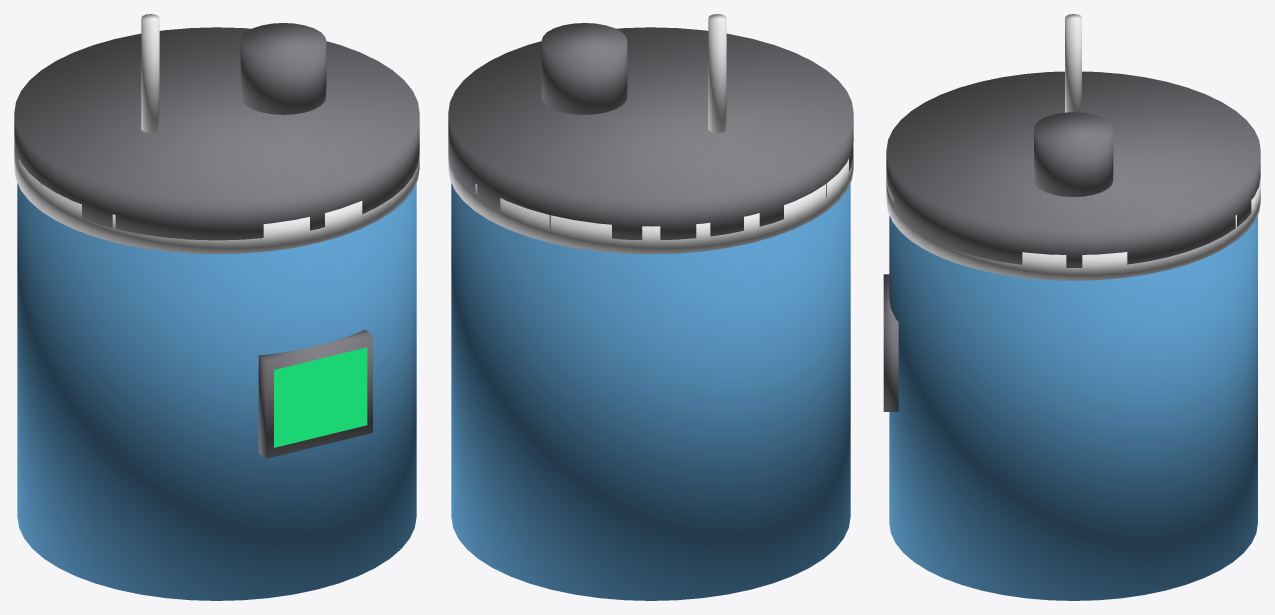
File: bomb_calorimeter.glb
3 renders of one model, left to right at view 1: azimuth 30°, elevation 25°; view 2: azimuth 150°, elevation 25°; view 3: azimuth 270°, elevation 25°, orthographic. The views are drawn at different scales.
Parts seen in each view (by area): view 1: Bomb_Calorimeter; view 2: Bomb_Calorimeter; view 3: Bomb_Calorimeter.
Boxes of the visible parts, box(x1,y1,x2,y2) form: Bomb_Calorimeter: box(14, 14, 419, 600); Bomb_Calorimeter: box(448, 14, 853, 600); Bomb_Calorimeter: box(883, 14, 1260, 600).
Size of the model in its own units: 0.132 by 0.185 by 0.1335.
